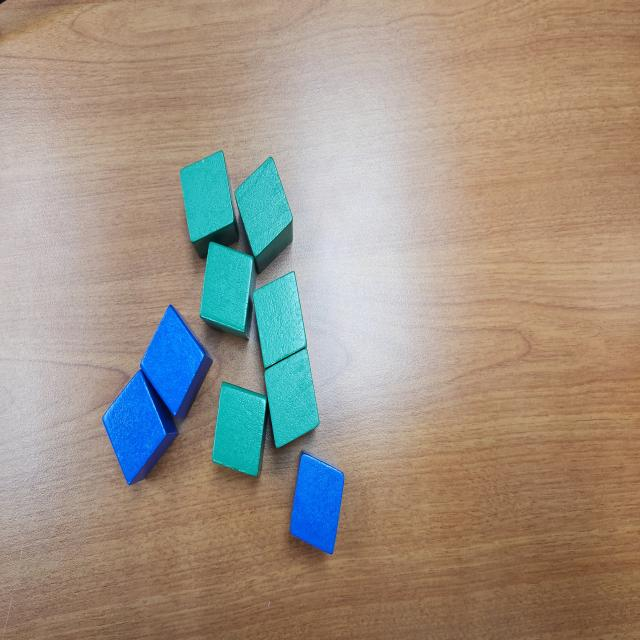blue: (102, 370, 180, 486), (140, 303, 213, 422), (289, 452, 345, 553)
green: (233, 156, 294, 274), (180, 150, 240, 260), (200, 238, 257, 340), (264, 349, 320, 450), (252, 270, 308, 371), (212, 382, 266, 478)
